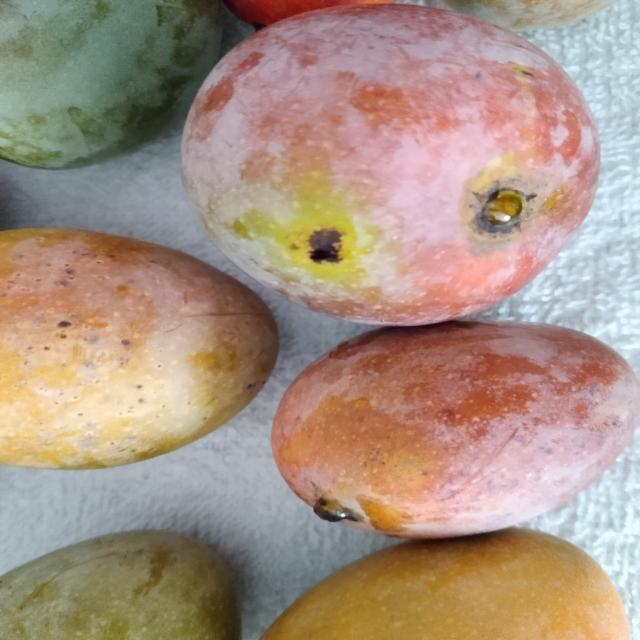mango: (178, 4, 603, 324), (270, 331, 640, 534), (2, 218, 275, 470), (278, 533, 637, 640), (0, 0, 216, 173), (2, 524, 260, 640)
